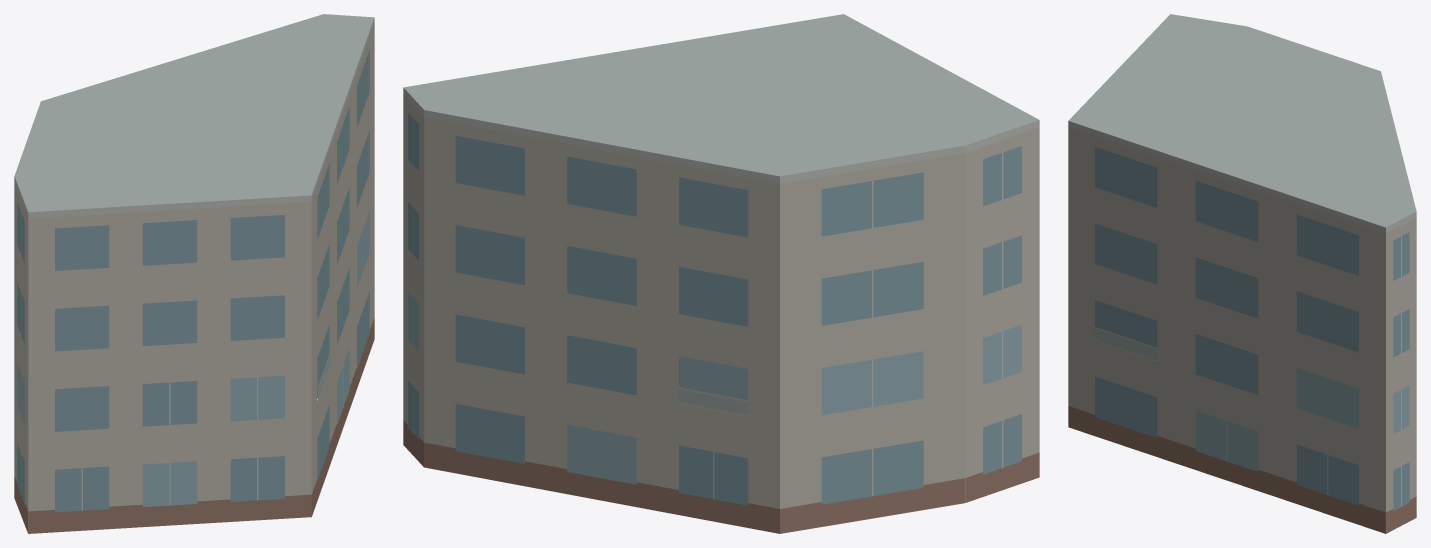
File: survey-upis-32723426.glb
3 renders of one model, left to right at view 1: azimuth 30°, elevation 25°; view 2: azimuth 150°, elevation 25°; view 3: azimuth 270°, elevation 25°, orthographic. The views are drawn at different scales.
Visible parts, largest first — view 1: survey-upis-32723426.tmp; view 2: survey-upis-32723426.tmp; view 3: survey-upis-32723426.tmp.
Boxes of the visible parts, left/top/right/bottom form: survey-upis-32723426.tmp: left=14, top=14, right=374, bottom=533; survey-upis-32723426.tmp: left=403, top=14, right=1039, bottom=533; survey-upis-32723426.tmp: left=1068, top=14, right=1416, bottom=533.
Size of the model in its own units: 18.32 by 12.25 by 12.63.
